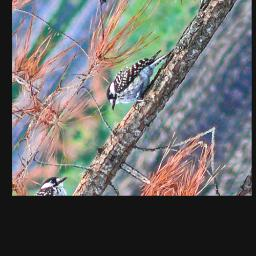Woodpecker: (91, 25, 186, 130)
